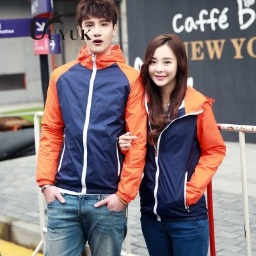face: (136, 33, 196, 95), (72, 1, 121, 61)
